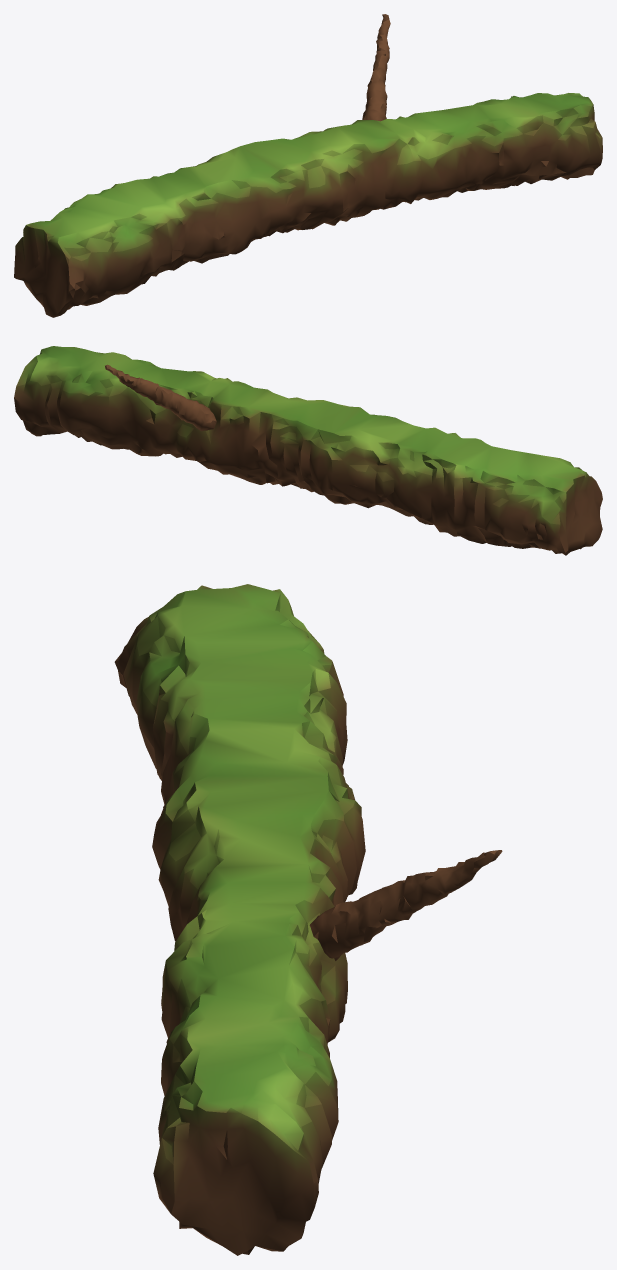
Rendered from glade_bridge_log.glb.
The picture shows the model from 3 angles, top to bottom: view 1: azimuth 30°, elevation 25°; view 2: azimuth 150°, elevation 25°; view 3: azimuth 270°, elevation 25°; orthographic projection. The views are drawn at different scales.
Visible parts, largest first — view 1: glade_bridge_log; view 2: glade_bridge_log; view 3: glade_bridge_log.
Boxes of the visible parts, x1=… form: glade_bridge_log: x1=14, y1=14, x2=602, y2=317; glade_bridge_log: x1=14, y1=346, x2=602, y2=555; glade_bridge_log: x1=114, y1=584, x2=502, y2=1255.
Size of the model in its own units: 14.2 by 3.54 by 4.34.
